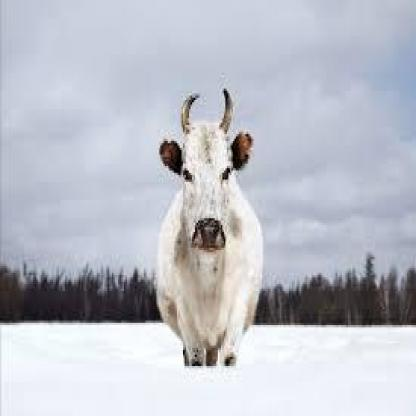cow: (157, 87, 262, 365)
